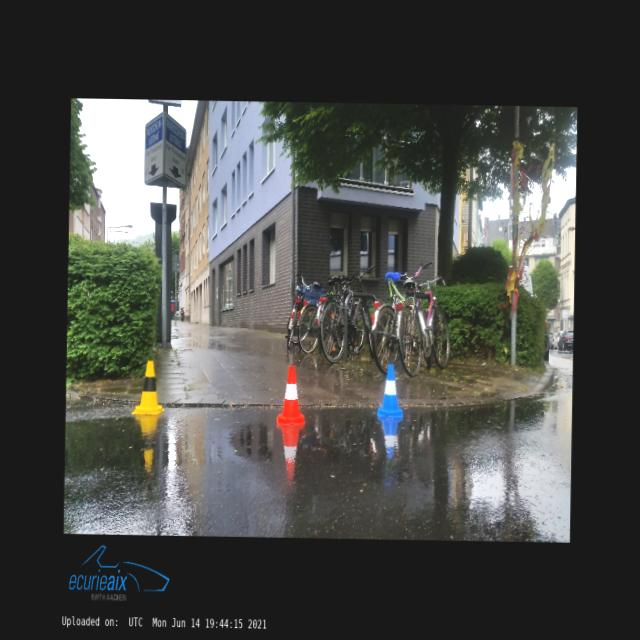blue_cone: (376, 364, 404, 416)
orange_cone: (276, 366, 304, 424)
yellow_cone: (132, 360, 164, 414)
